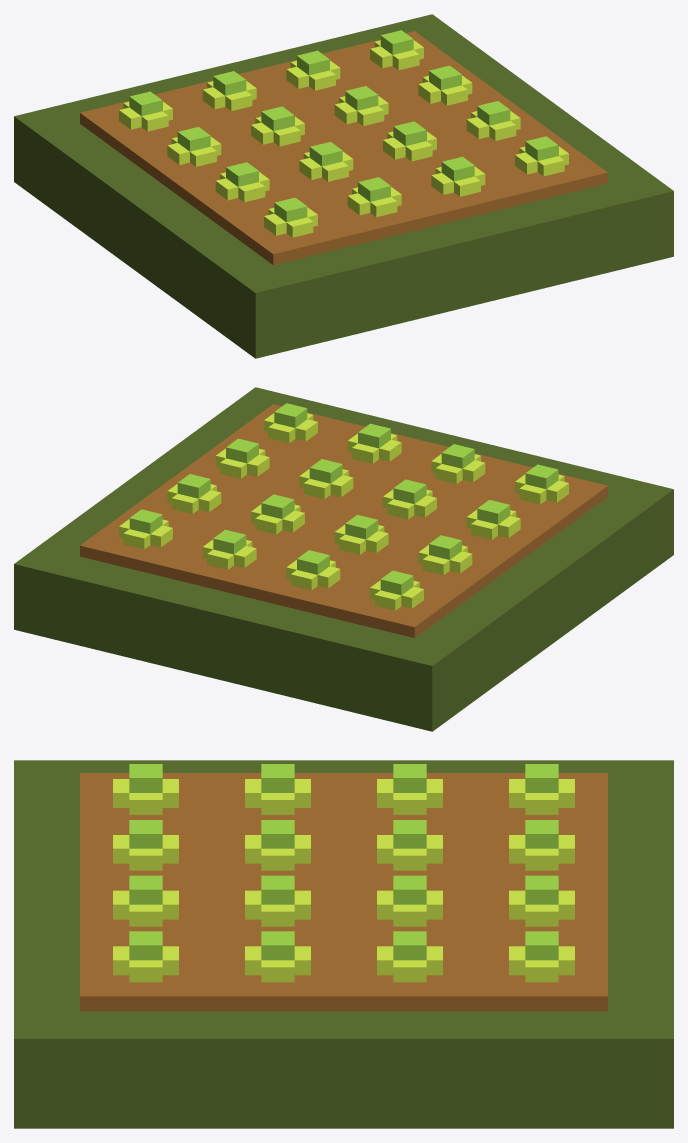
File: tomato001.obj
3 views of the same model, one above another, from view 1: azimuth 30°, elevation 25°; view 2: azimuth 150°, elevation 25°; view 3: azimuth 270°, elevation 25° (orthographic). The views are drawn at different scales.
Size of the model in its own units: 4 by 0.9 by 4.
Materials: 1 (1 with a texture image).
